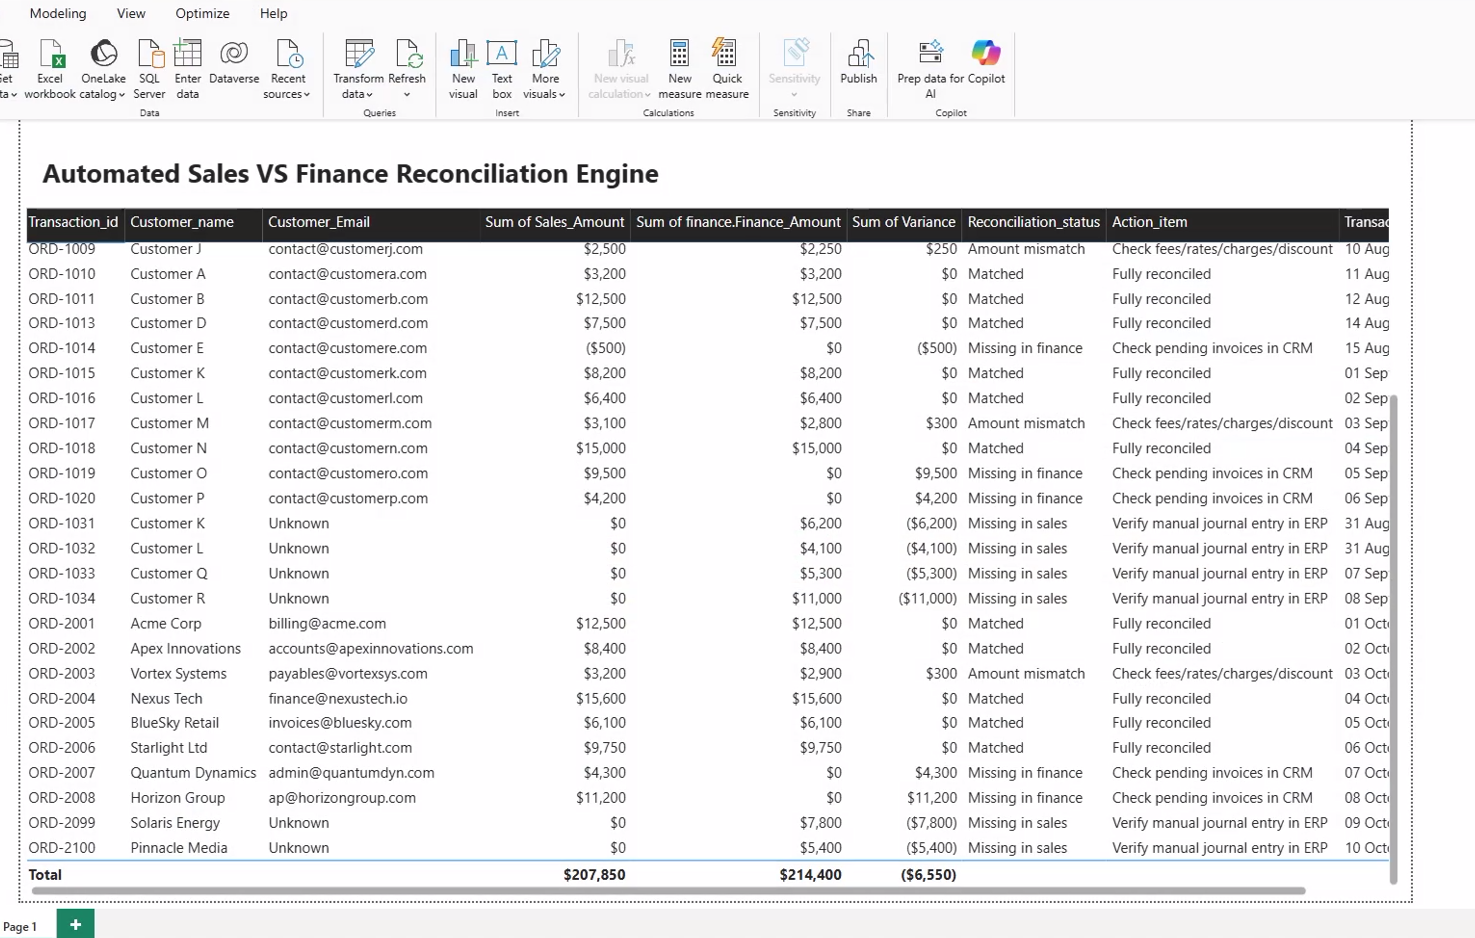

The dashboard page shown, as its layout file describes it:
{"tool":"powerbi","page":{"name":"Page 1","canvas":[1280,720],"ordinal":0},"visuals":[{"type":"tableEx","fields":{"Values":["Master_Reconciliation.Transaction_id","Master_Reconciliation.Customer_name","Master_Reconciliation.Customer_Email","Sum(Master_Reconciliation.Sales_Amount)","Sum(Master_Reconciliation.finance.Finance_Amount)","Sum(Master_Reconciliation.Variance)","Master_Reconciliation.Reconciliation_status","Master_Reconciliation.Action_item","Master_Reconciliation.Transaction_date"]},"box":[0,77.1,1274.2,642.9],"z":0},{"type":"textbox","box":[15.1,27.5,666.8,65.6],"z":1000}]}

Visuals, with their boxes on the page's 1280x720 design canvas (x1, y1, x2, y2). These are canvas units, not pixel positions in the 1475x938 screenshot, which may show the page scaled, cropped or inside an application window:
tableEx - Master_Reconciliation.Transaction_id x Master_Reconciliation.Customer_name: <bbox>0, 77, 1274, 720</bbox>
textbox: <bbox>15, 28, 682, 93</bbox>
